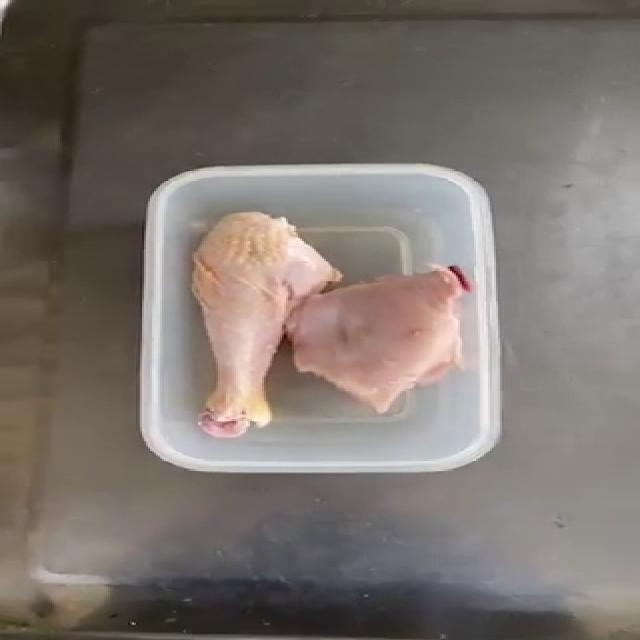chicken: (189, 209, 342, 438), (283, 262, 471, 414)
